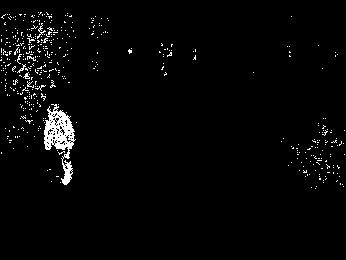person: (45, 104, 76, 186)
